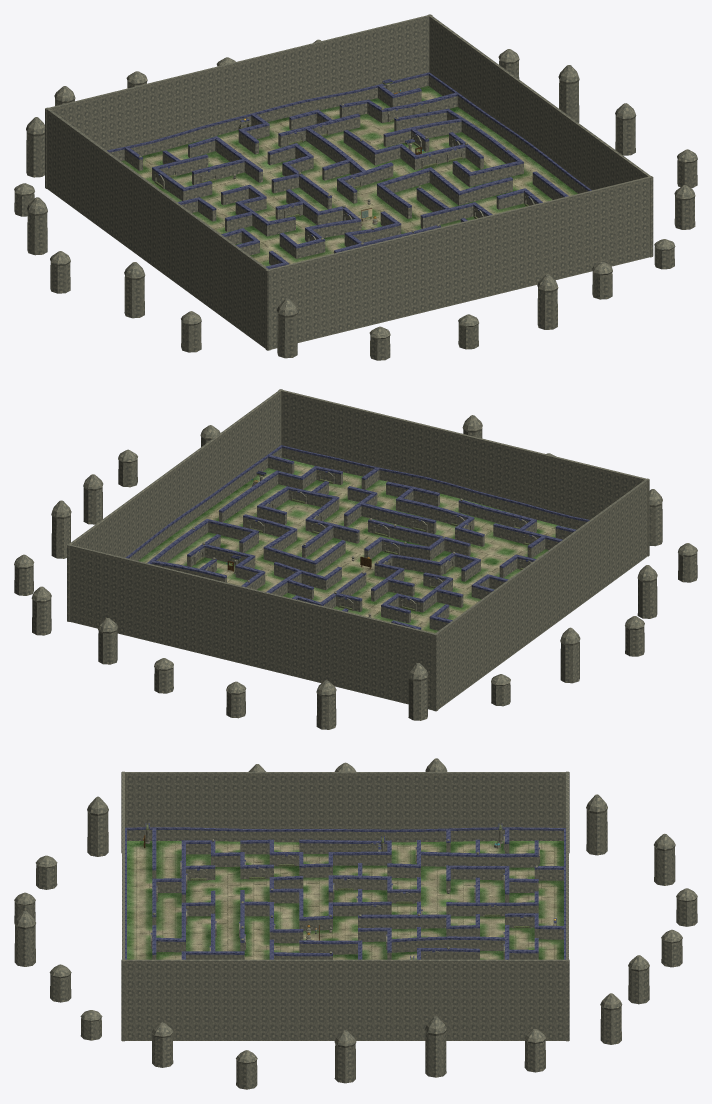
File: RainCourt-3125b47a5df8.glb
3 renders of one model, top to bottom at view 1: azimuth 30°, elevation 25°; view 2: azimuth 150°, elevation 25°; view 3: azimuth 270°, elevation 25°, orthographic. The views are drawn at different scales.
Visible parts, largest first — view 1: C_Solids, Rim, Terrain, Horizon, Set; view 2: C_Solids, Rim, Terrain, Horizon, Set; view 3: C_Solids, Rim, Terrain, Horizon, Set.
Boxes of the visible parts, x1=… form: C_Solids: x1=45, y1=14, x2=653, y2=350; Rim: x1=107, y1=72, x2=591, y2=269; Terrain: x1=121, y1=86, x2=577, y2=266; Horizon: x1=14, y1=39, x2=697, y2=360; Set: x1=138, y1=79, x2=534, y2=258; C_Solids: x1=67, y1=389, x2=649, y2=711; Rim: x1=125, y1=445, x2=589, y2=630; Terrain: x1=138, y1=457, x2=568, y2=633; Horizon: x1=14, y1=415, x2=697, y2=729; Set: x1=192, y1=470, x2=536, y2=617; C_Solids: x1=121, y1=771, x2=569, y2=1041; Rim: x1=125, y1=827, x2=565, y2=959; Terrain: x1=127, y1=841, x2=563, y2=959; Horizon: x1=14, y1=758, x2=697, y2=1089; Set: x1=143, y1=823, x2=556, y2=959.
Bounding box in the file's own units: 189 × 24 × 186.
Materials: 15 (15 with a texture image).
